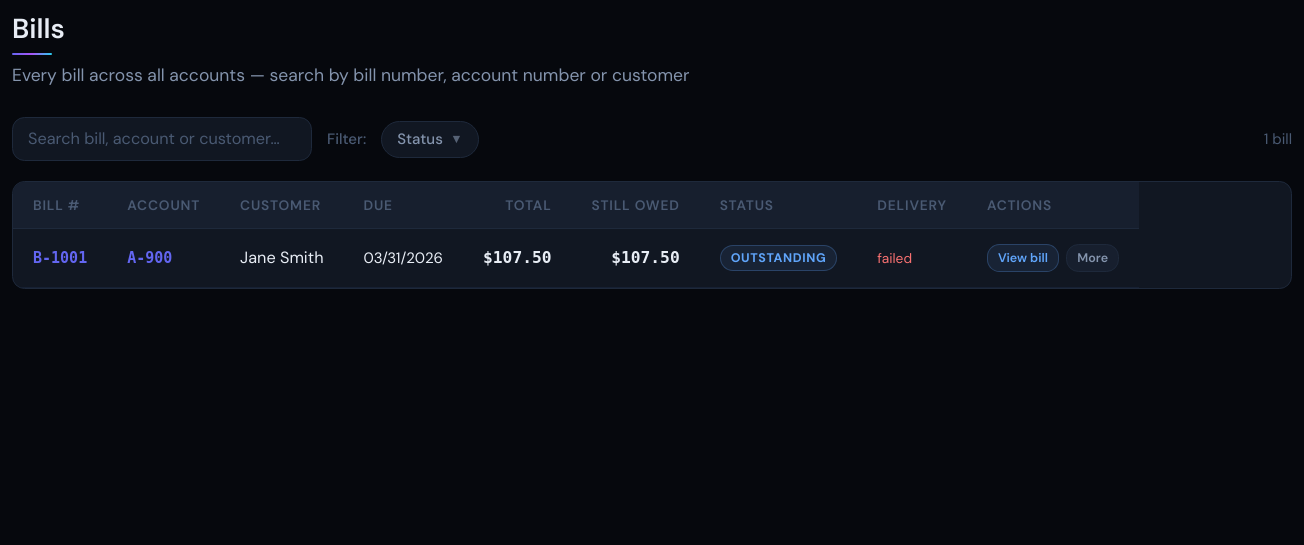
Bills — sending from the list › says Resend once an attempt has been made
Expected: the button "B-1001" is shown, [33,247,87,269]
Click the button with aria-label "more actions for B-1001". click: (1093, 258)
box: [1066,244,1119,272]
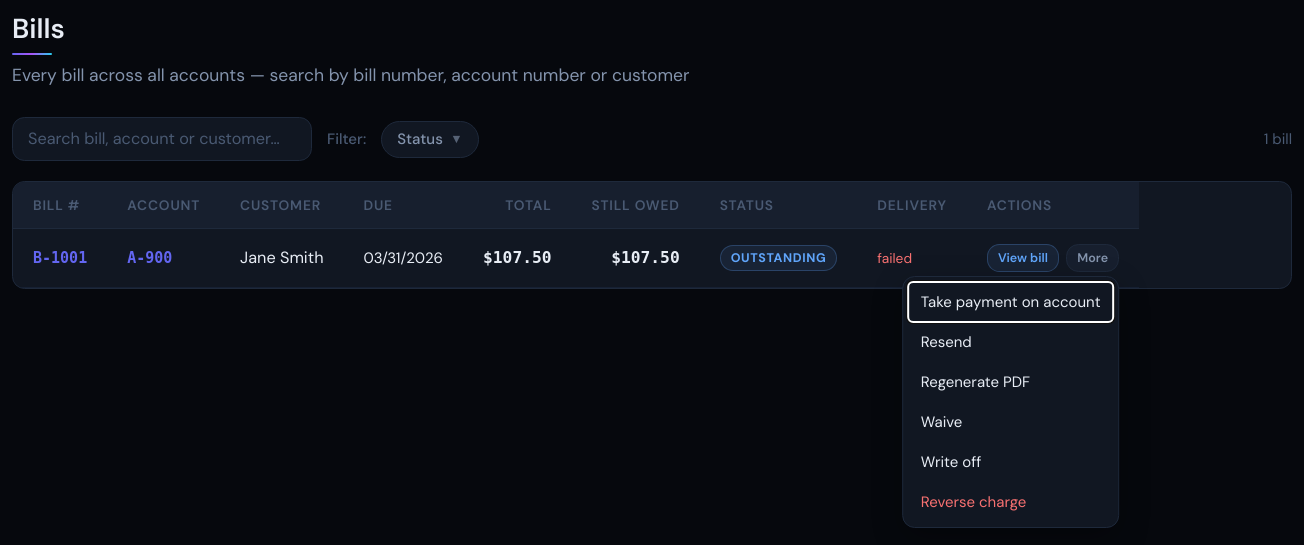
Expected: the menu item "Resend" is shown, [908,322,1113,362]
